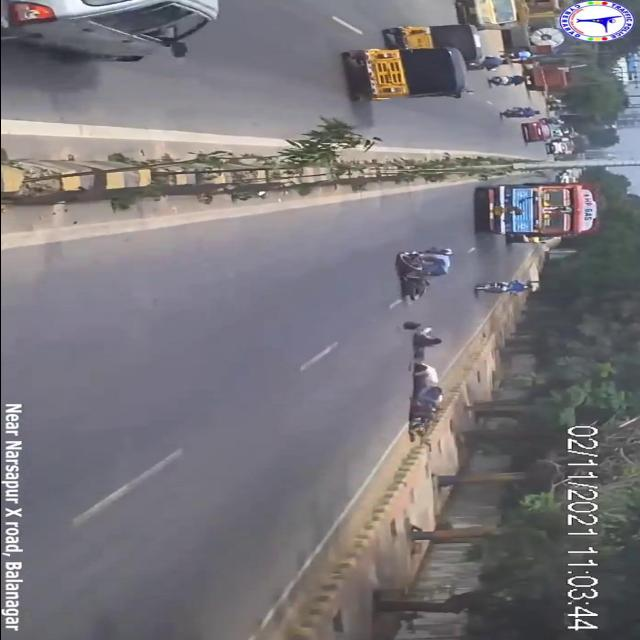accident: (379, 244, 471, 442)
non_accident: (302, 4, 520, 106), (472, 178, 602, 252), (526, 131, 598, 161)
